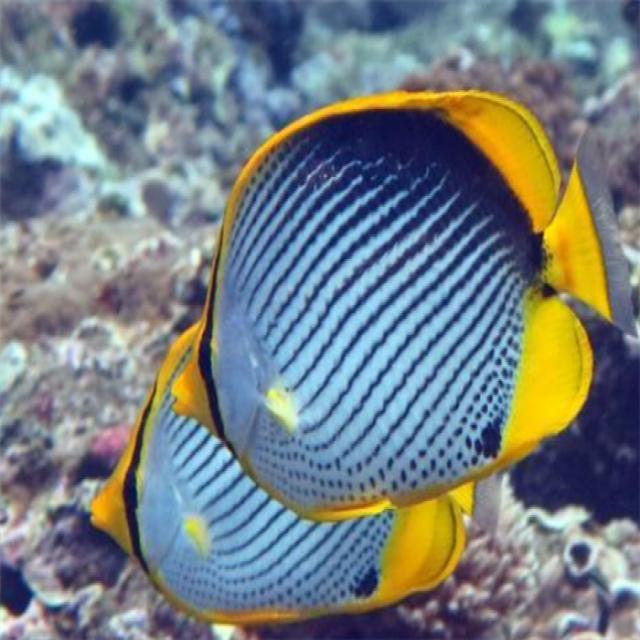ButterflyFish: (172, 86, 634, 518), (90, 326, 497, 623)
